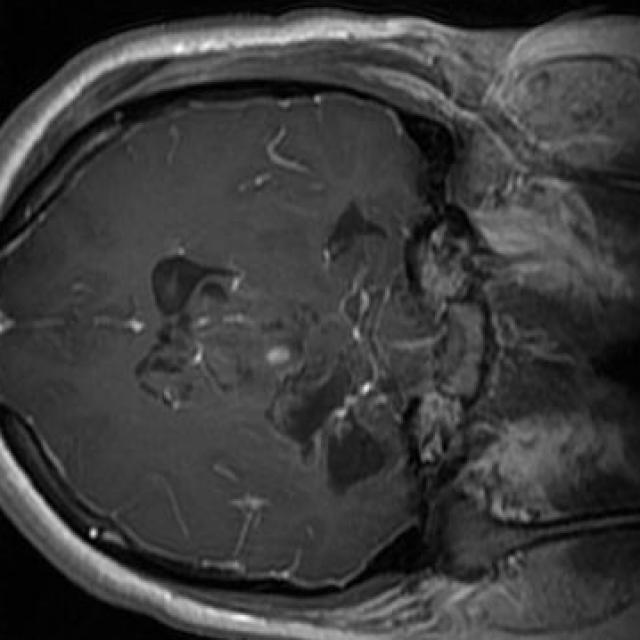glioma: (135, 201, 414, 497)
